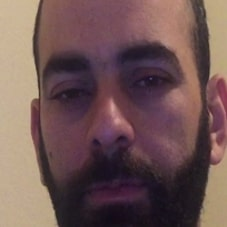drowsy: (40, 37, 185, 213)
